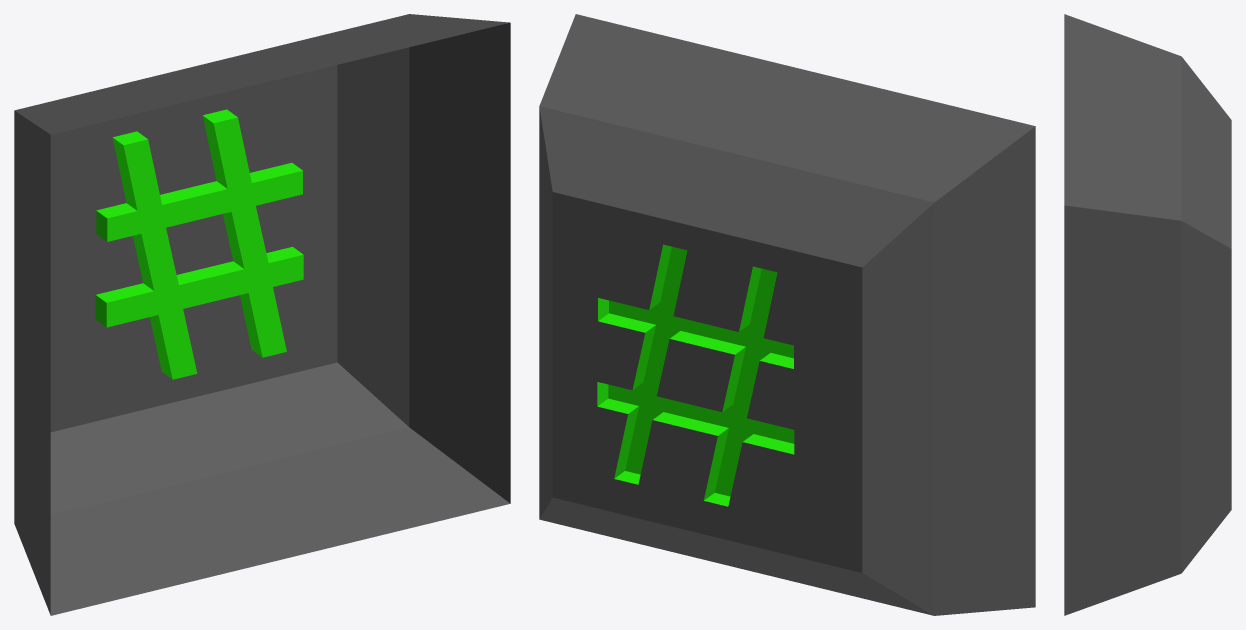
The model's file is hashtag.fbx.
The picture shows the model from 3 angles, left to right: view 1: azimuth 30°, elevation 25°; view 2: azimuth 150°, elevation 25°; view 3: azimuth 270°, elevation 25°; orthographic projection. The views are drawn at different scales.
Visible parts, largest first — view 1: key 2.014; view 2: key 2.014; view 3: key 2.014.
Boxes of the visible parts, x1,y1,x2,y2 form: key 2.014: (14, 14, 510, 615); key 2.014: (539, 14, 1035, 615); key 2.014: (1064, 14, 1231, 615).
Bounding box in the file's own units: 4.81 × 4.81 × 1.78.
